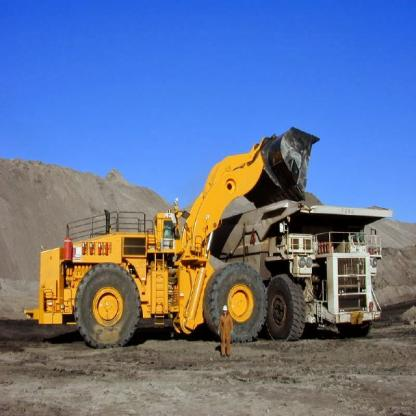bull_dozer/loader/grader: (34, 102, 310, 350)
